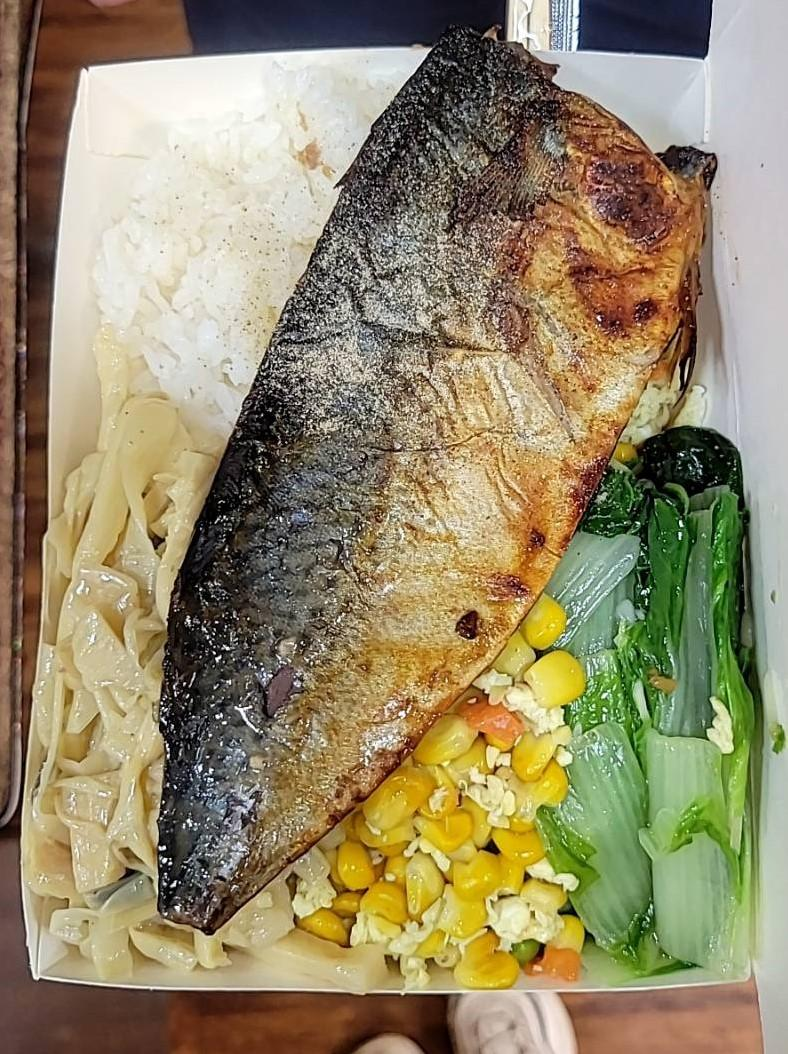big grilled chicken leg: (10, 30, 778, 1018)
big herbal chicken leg: (82, 66, 392, 456)
braised fish fillet: (40, 413, 280, 978), (564, 428, 768, 974), (298, 580, 570, 982)
braised pork ribs: (142, 21, 716, 932)
